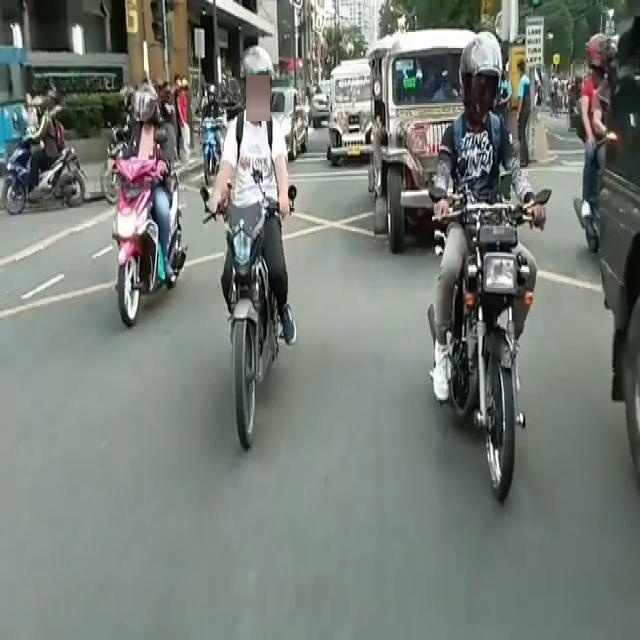car: (272, 92, 312, 158)
jeepney: (377, 38, 457, 236), (331, 61, 375, 167)
motorcycle: (422, 47, 543, 483), (222, 58, 298, 441), (117, 91, 183, 308), (4, 105, 90, 214), (578, 48, 615, 280)
